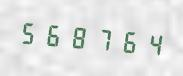eight: (66, 17, 89, 55)
five: (17, 13, 40, 51)
four: (138, 24, 161, 62)
seven: (90, 19, 113, 57)
six: (41, 15, 64, 53), (114, 22, 137, 59)
